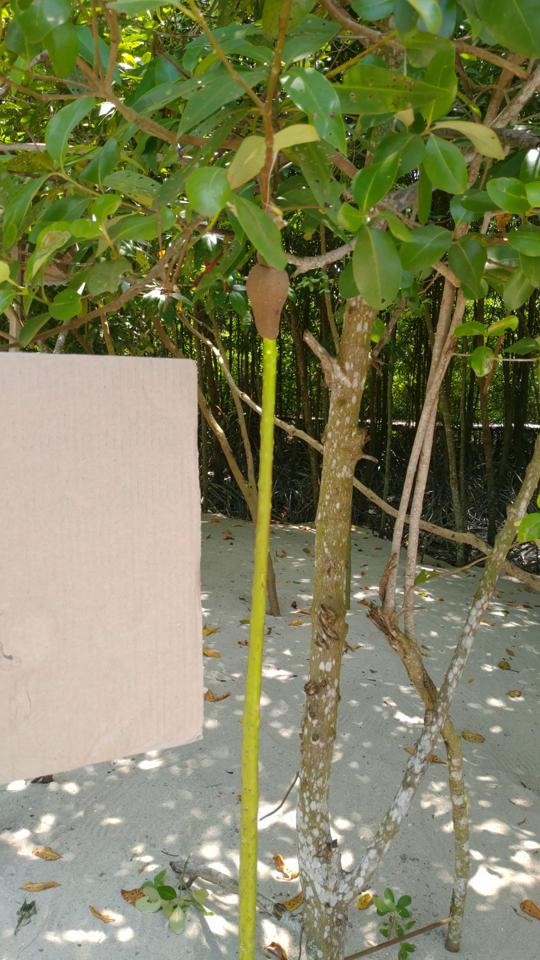mentah: (228, 247, 296, 956)
